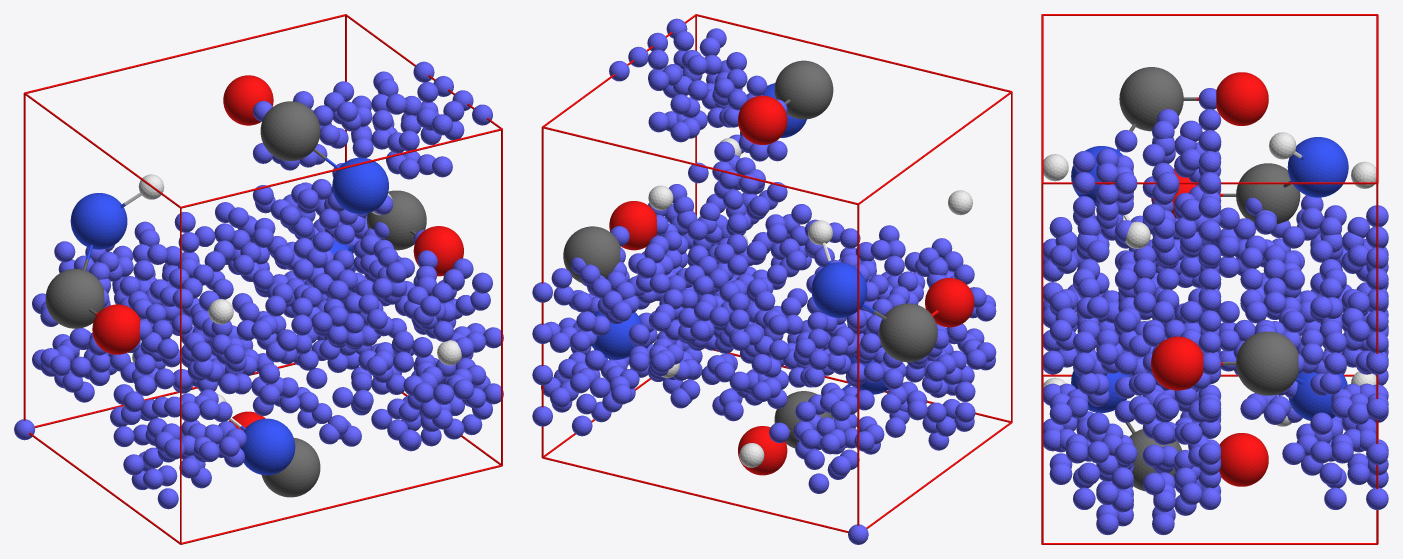
The model's file is 004_auto_seedobj_seeds.obj.
3 views of the same model, side by side, from view 1: azimuth 30°, elevation 25°; view 2: azimuth 150°, elevation 25°; view 3: azimuth 270°, elevation 25° (orthographic). The views are drawn at different scales.
Parts seen in each view (by area): view 1: ball_17, ball_1, ball_5, ball_8, ball_6, ball_19, ball_3, ball_2, ball_18, ball_20, stick_26, stick_32 (+4 smaller); view 2: ball_1, ball_17, ball_5, ball_19, ball_18, ball_3, ball_20, ball_4, ball_7, stick_26, ball_2, stick_29 (+4 smaller); view 3: ball_19, ball_17, ball_5, ball_1, ball_20, ball_18, ball_4, ball_7, stick_35, ball_2, stick_28, stick_36 (+23 smaller).
Part boxes in pixels (x1,y1,x2,y2): ball_17: (260,101,320,160); ball_1: (45,269,104,328); ball_5: (70,193,127,249); ball_8: (332,157,388,214); ball_6: (241,418,295,475); ball_19: (367,190,426,250); ball_3: (92,304,140,354); ball_2: (261,438,320,497); ball_18: (223,75,273,125); ball_20: (413,226,463,276); stick_26: (23,94,25,420); stick_32: (180,465,502,544); ball_1: (879,303,937,362); ball_17: (774,60,833,119); ball_5: (811,262,867,317); ball_19: (563,226,620,284); ball_18: (738,95,787,144); ball_3: (925,278,974,327); ball_20: (609,201,656,250); ball_4: (738,426,787,475); ball_7: (592,310,642,359); stick_26: (857,204,859,525); ball_2: (774,391,833,448); stick_29: (542,126,858,204); ball_19: (1236,331,1298,395); ball_17: (1119,67,1183,131); ball_5: (1287,137,1348,197); ball_1: (1236,163,1300,224); ball_20: (1151,336,1203,390); ball_18: (1216,72,1268,125); ball_4: (1219,433,1268,486); ball_7: (1288,372,1347,420); stick_35: (1041,183,1043,544); ball_2: (1129,429,1181,491); stick_28: (1376,183,1378,544); stick_36: (1042,182,1377,184).
Bounding box in the file's own units: 12.22 × 12.22 × 9.18.
